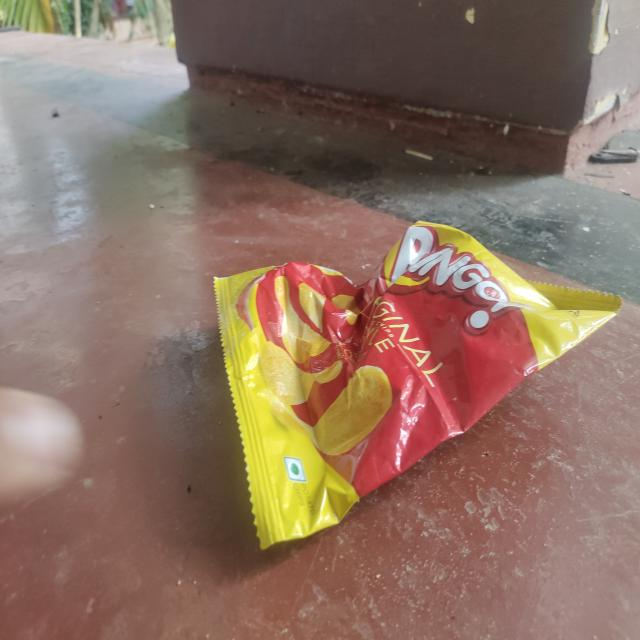plastic: (208, 214, 625, 549)
